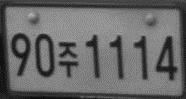0: (34, 32, 56, 77)
1: (107, 33, 125, 79), (84, 33, 101, 80), (132, 34, 148, 81)
4: (154, 34, 178, 81)
9: (10, 32, 31, 77)
주: (56, 40, 79, 78)
